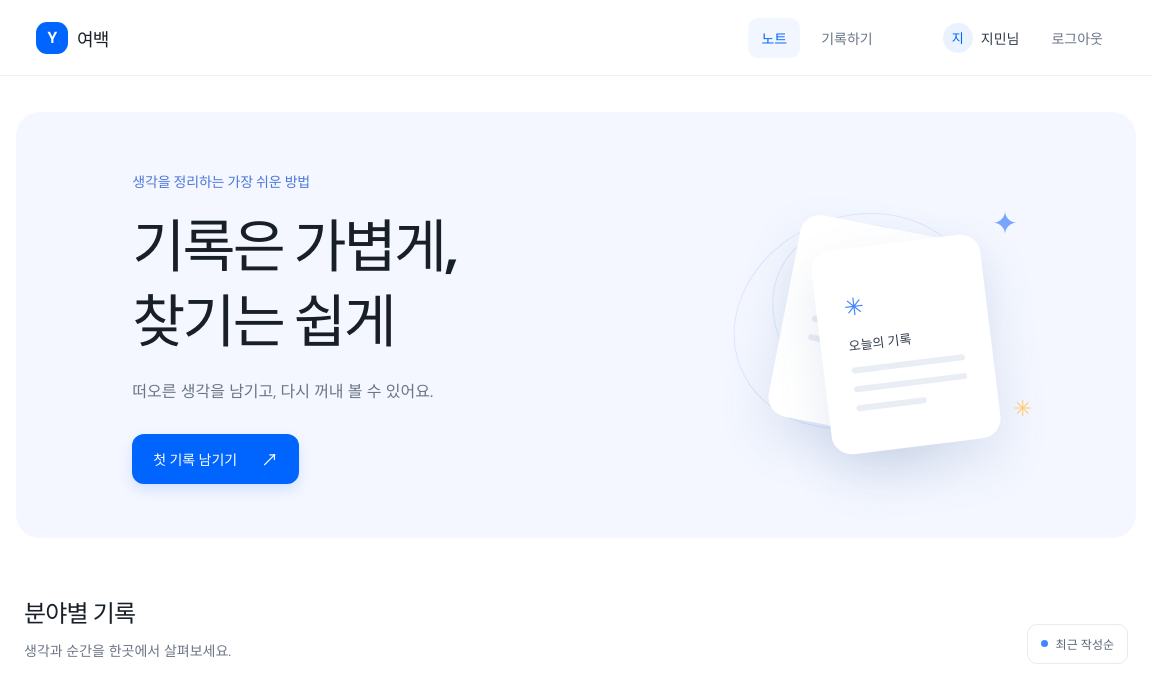
Scenario: 여백 페이지 흐름 › 로그아웃에 실패하면 계정 상태를 유지하고 오류를 알린다
The image size is (1152, 684).
What coordinates should you click on to do the following:
click the button with class "logout-button"
I would click on:
 (1077, 38)
Its box is [1038,18,1116,58].
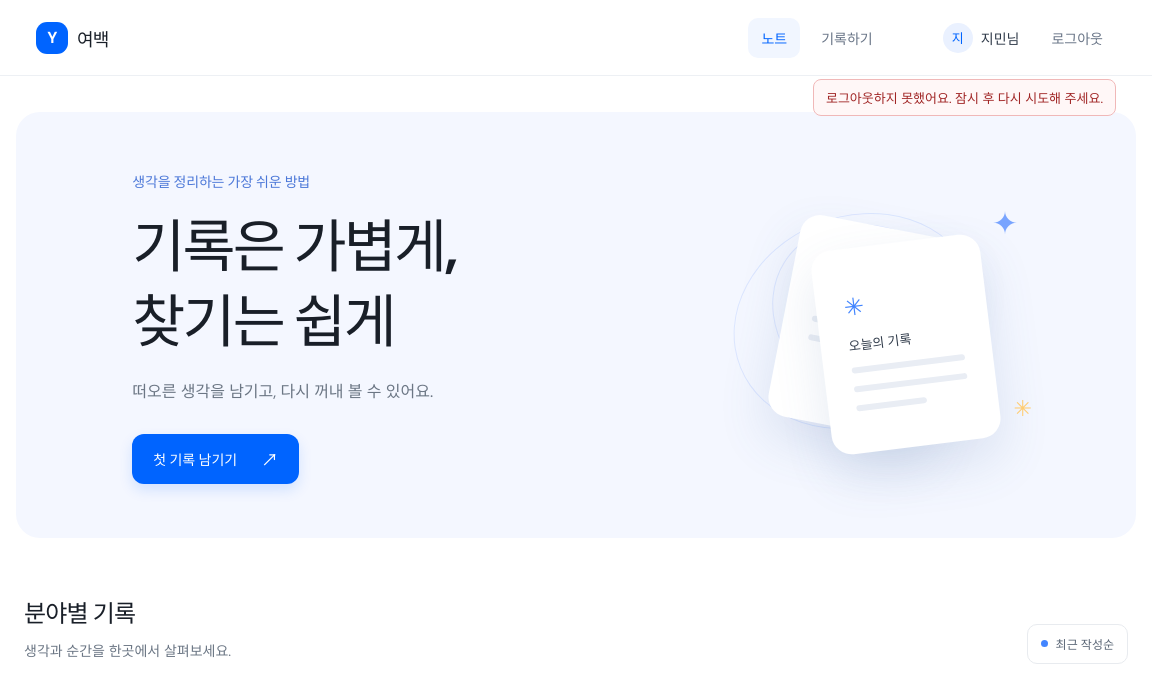
Expected: the element with test id "user-profile" shows "지민님", [981,30,1019,48]
Expected: the message "로그아웃하지 못했어요. 잠시 후 다시 시도해 주세요." is shown, [813,79,1116,116]
